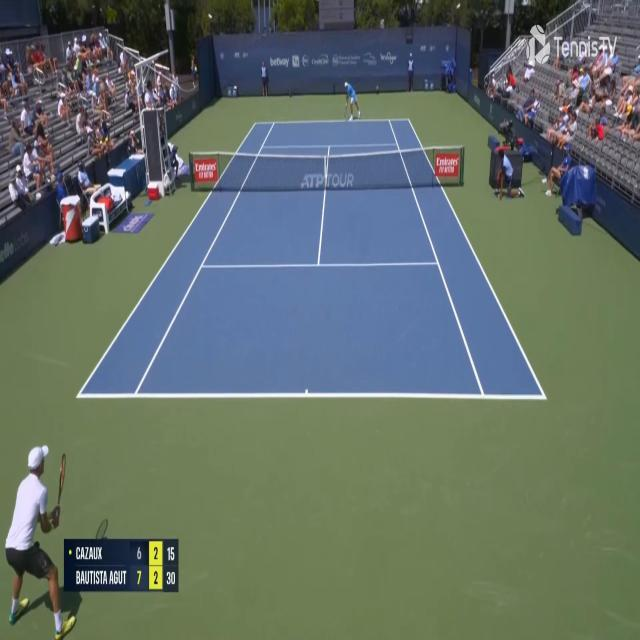tennis-player: (2, 439, 77, 638), (340, 76, 363, 122)
